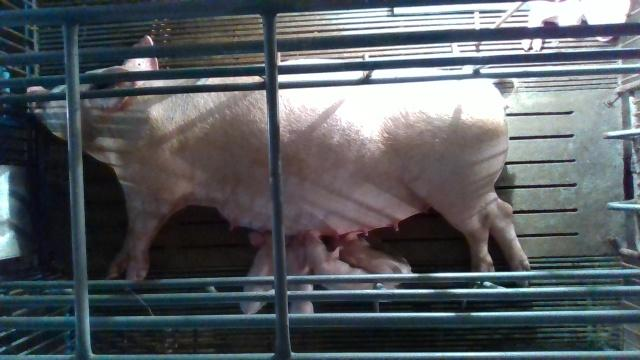piglet: (302, 228, 402, 290), (332, 235, 412, 288), (240, 229, 275, 314), (288, 238, 315, 313)
sow-sleep-lactate: (25, 32, 532, 288)
